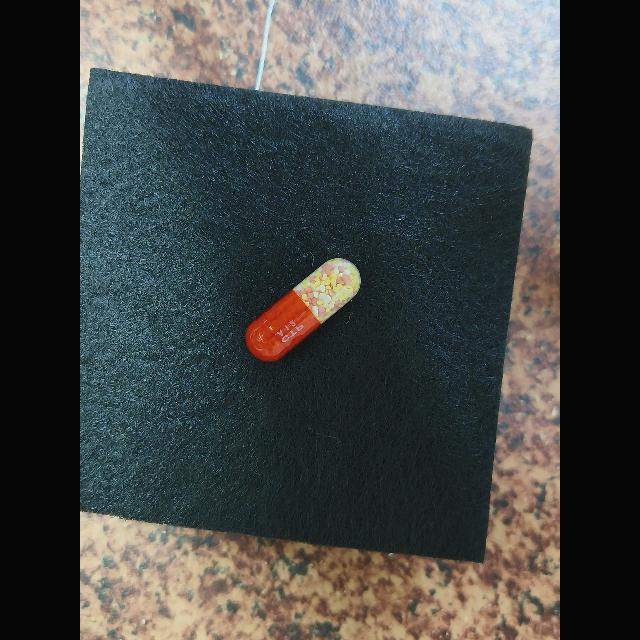Intact Capsule: (245, 258, 361, 361)
